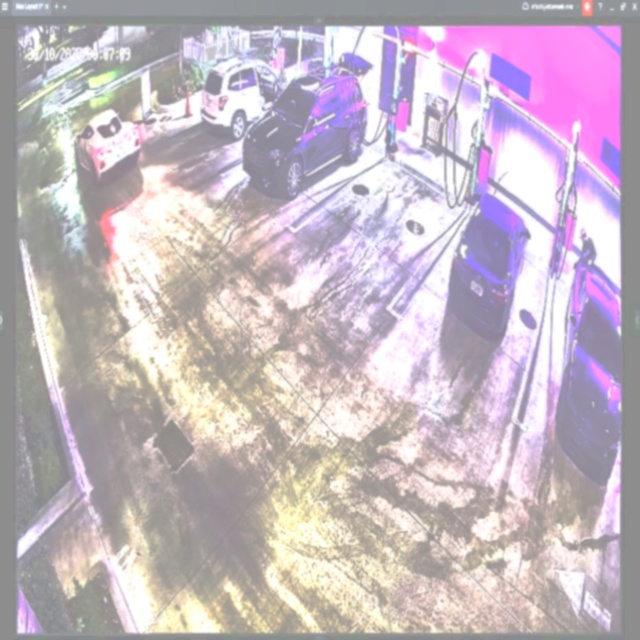Car: (246, 53, 372, 200), (447, 191, 531, 340), (73, 108, 141, 178)
